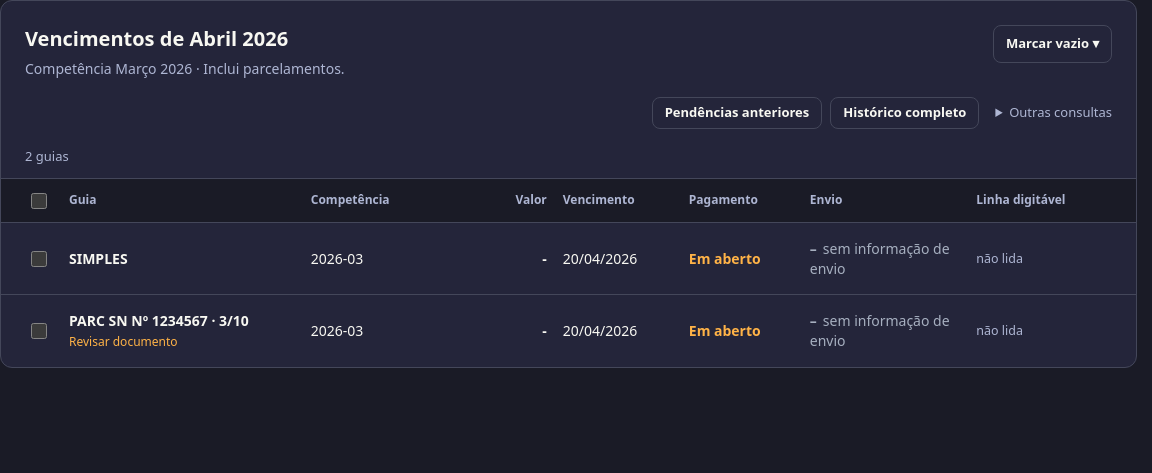
Test: envio das guias selecionadas › envia as disponíveis sem bloquear o lote por {"status":"ERROR"}
Click the button "Histórico completo": (905, 113) top-left (830, 97), bottom-right (979, 129)
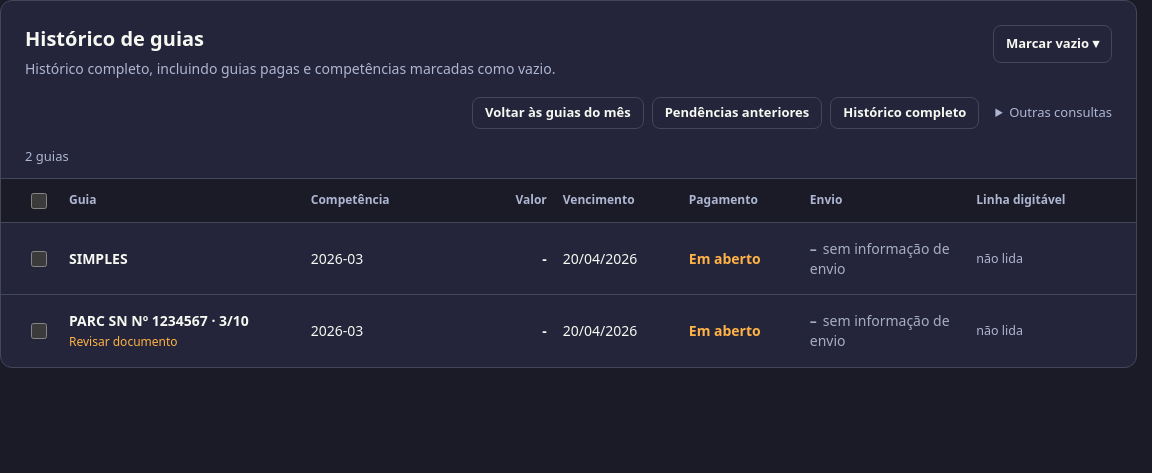
Click the checkbox named "Selecionar todas": (39, 200) top-left (31, 192), bottom-right (47, 208)
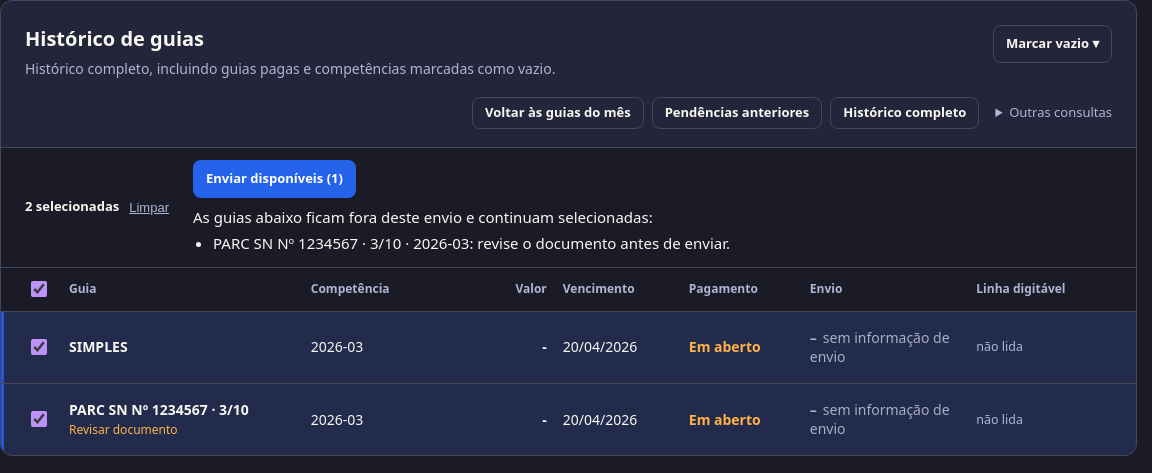
Expected: the list item "revise o documento" is shown, top-left (477, 233), bottom-right (726, 253)
Expected: the button "Enviar disponíveis (1)" is enabled
Click the button "Enviar disponíveis (1)": (274, 178) top-left (193, 160), bottom-right (356, 198)
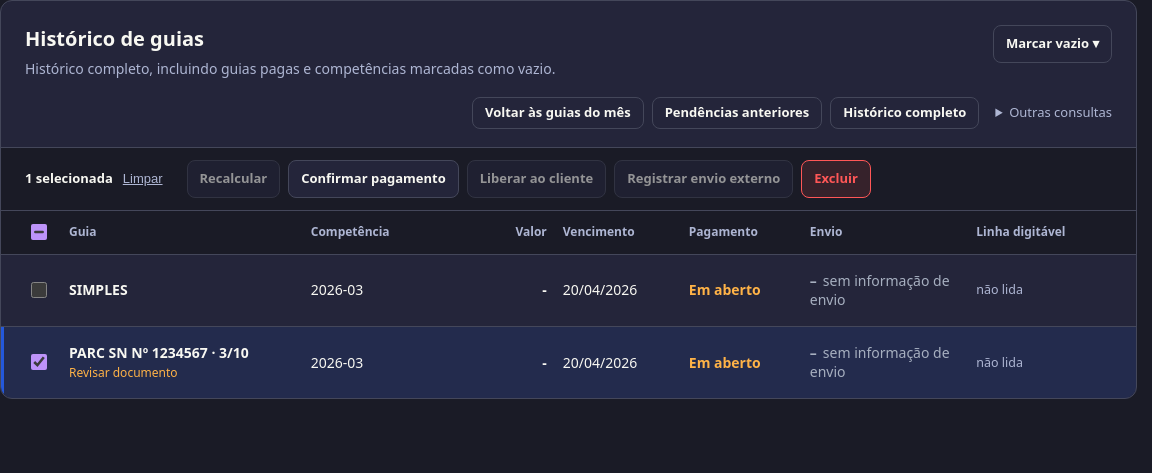
Expected: the checkbox named "Selecionar guia" is checked, top-left (31, 354), bottom-right (47, 370)
Expected: the checkbox named "Selecionar guia" is not checked, top-left (31, 282), bottom-right (47, 298)
